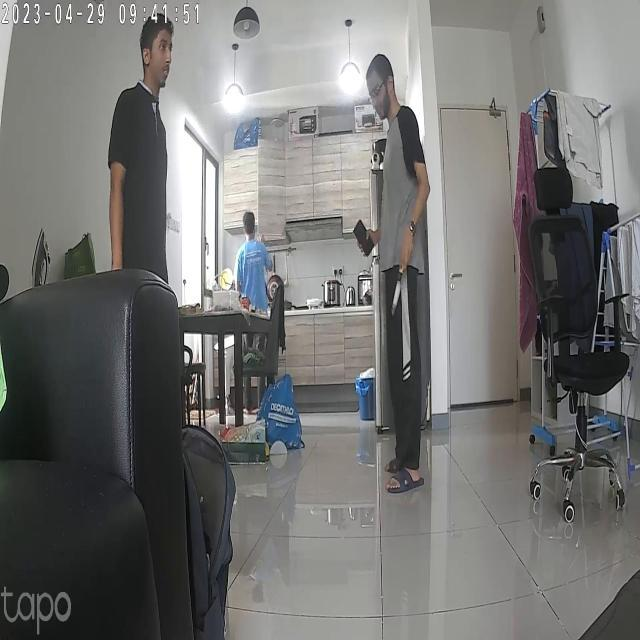Knife: (389, 266, 411, 332)
